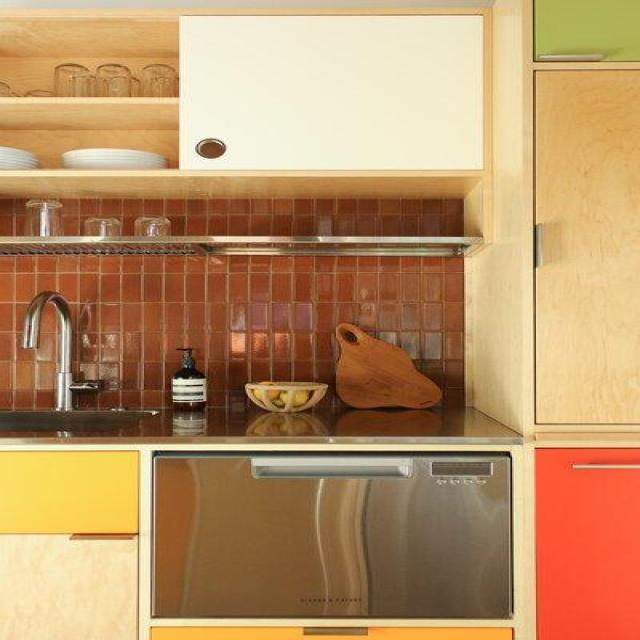dishwasher: (135, 448, 523, 624)
